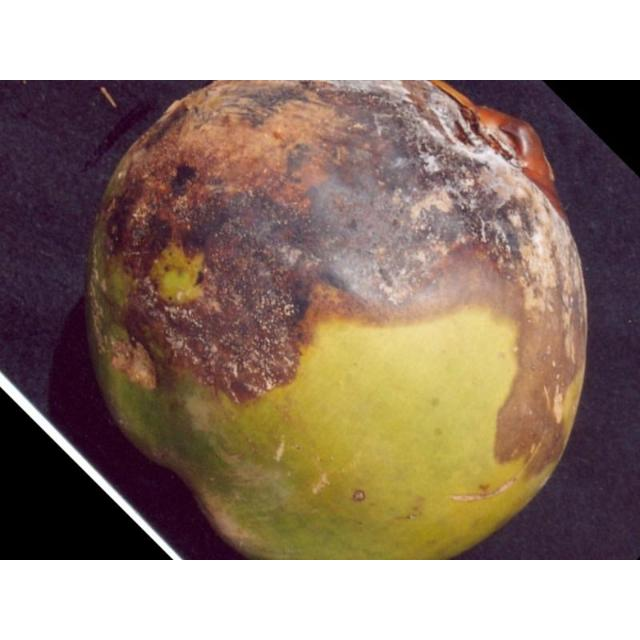damaged: (81, 80, 589, 559)
